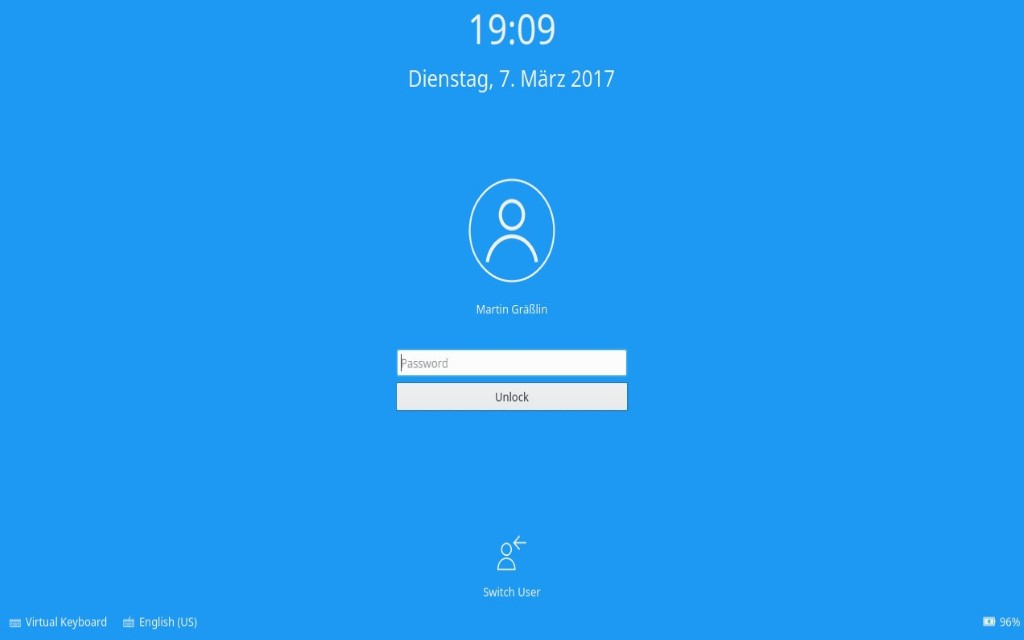button: (397, 382, 627, 409)
label_password: (400, 357, 452, 371)
textbox: (396, 349, 626, 375)
